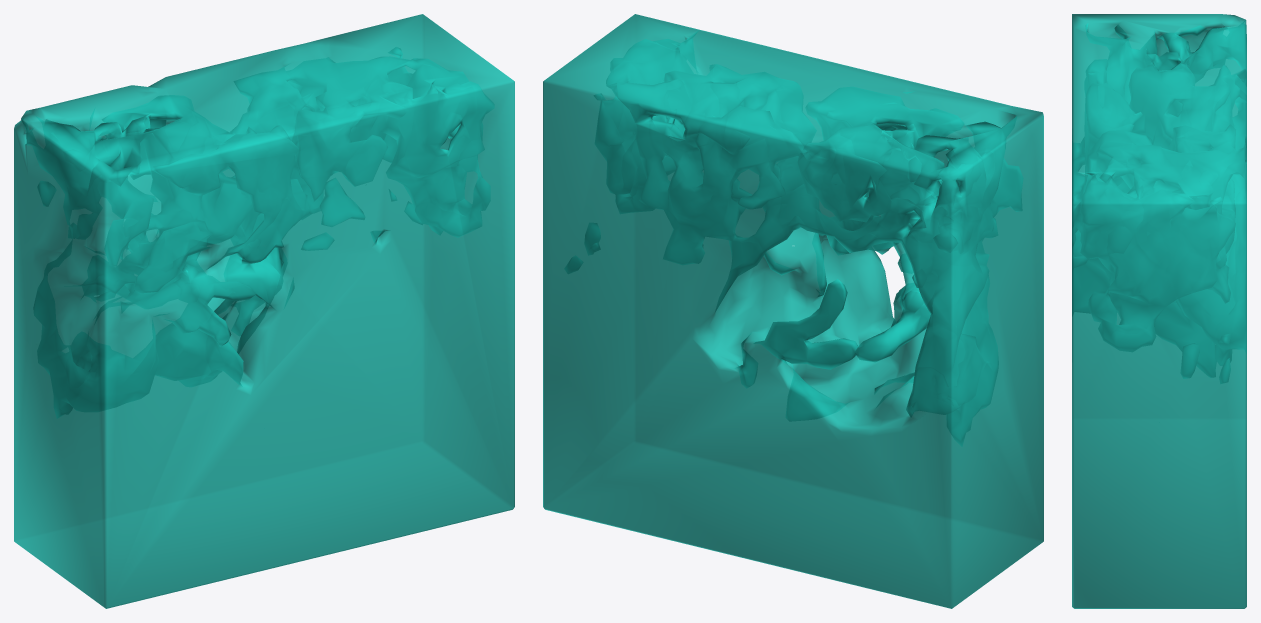
3 renders of one model, left to right at view 1: azimuth 30°, elevation 25°; view 2: azimuth 150°, elevation 25°; view 3: azimuth 270°, elevation 25°, orthographic. The views are drawn at different scales.
Parts seen in each view (by area): view 1: Liquid_Domain; view 2: Liquid_Domain; view 3: Liquid_Domain.
Part boxes in pixels (x1,y1,x2,y2): Liquid_Domain: [14, 14, 514, 608]; Liquid_Domain: [543, 14, 1043, 608]; Liquid_Domain: [1072, 14, 1246, 608].
Size of the model in its own units: 884 by 884 by 344.
